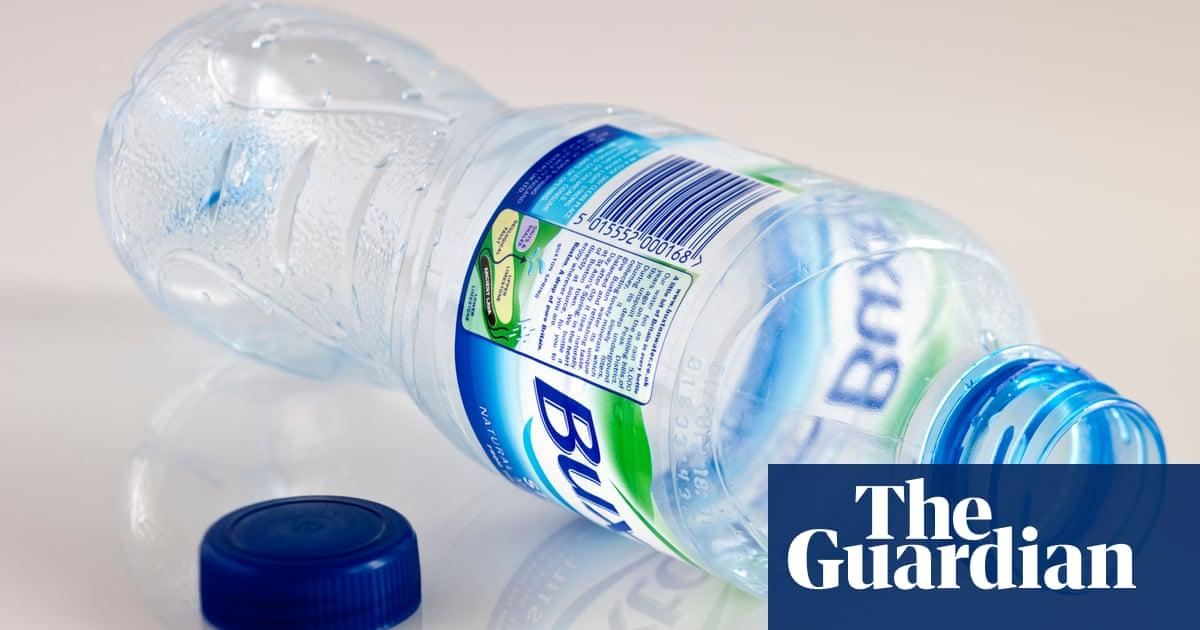bottle: (71, 0, 1156, 591)
